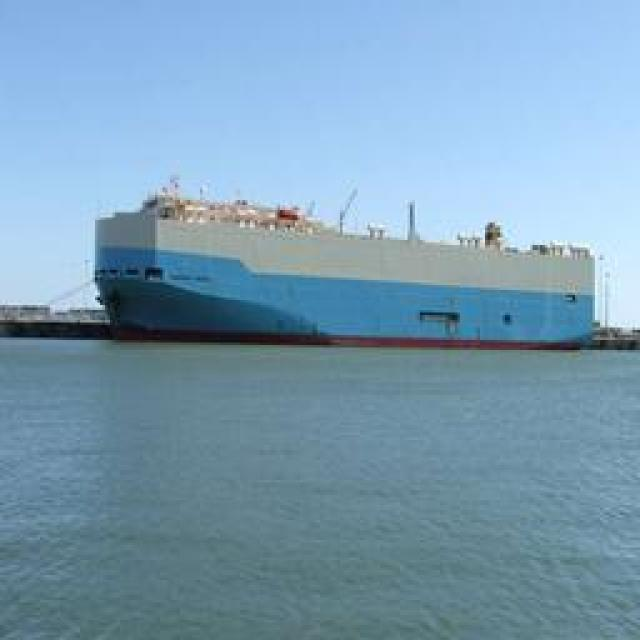CIV_Ship: (99, 198, 584, 346)
